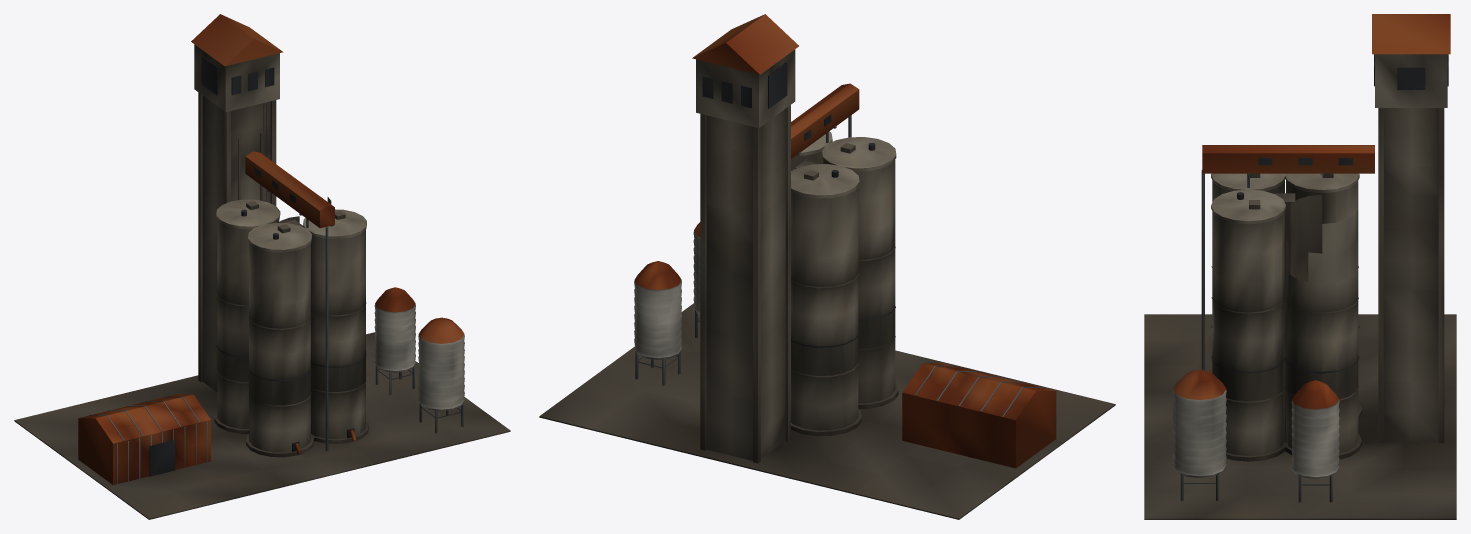
The model's file is silo_group.glb.
3 renders of one model, left to right at view 1: azimuth 30°, elevation 25°; view 2: azimuth 150°, elevation 25°; view 3: azimuth 270°, elevation 25°, orthographic. The views are drawn at different scales.
Visible parts, largest first — view 1: concrete, concrete_dark, rust, paint2, metal_dark, steel_beam; view 2: concrete, concrete_dark, rust, paint2, metal_dark, steel_beam; view 3: concrete, concrete_dark, rust, paint2, metal_dark, steel_beam.
Part boxes in pixels (left/top/right/bottom): concrete: left=194, top=44, right=366, bottom=452; concrete_dark: left=14, top=92, right=510, bottom=519; rust: left=78, top=14, right=464, bottom=484; paint2: left=374, top=304, right=464, bottom=410; metal_dark: left=149, top=56, right=394, bottom=476; steel_beam: left=89, top=190, right=463, bottom=450; concrete: left=696, top=49, right=896, bottom=460; concrete_dark: left=539, top=105, right=1115, bottom=519; rust: left=634, top=14, right=1056, bottom=468; paint2: left=634, top=231, right=700, bottom=359; metal_dark: left=702, top=62, right=895, bottom=347; steel_beam: left=635, top=115, right=1043, bottom=417; concrete: left=1211, top=54, right=1447, bottom=455; concrete_dark: left=1144, top=108, right=1456, bottom=519; rust: left=1173, top=14, right=1450, bottom=433; paint2: left=1172, top=389, right=1339, bottom=478; metal_dark: left=1211, top=54, right=1448, bottom=442; steel_beam: left=1180, top=170, right=1332, bottom=502.
Size of what is drawn, in the model's own units: 48 by 45.6 by 31.
